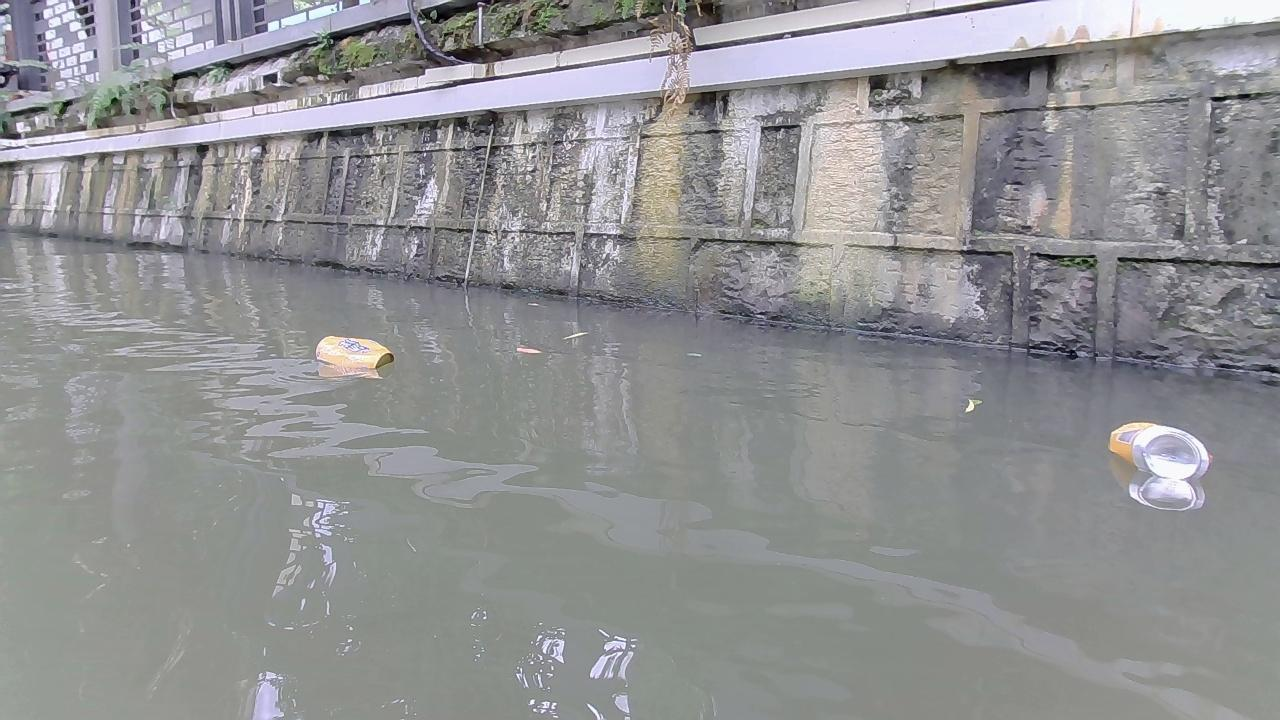Metal: (1107, 421, 1215, 483), (315, 335, 396, 370)
